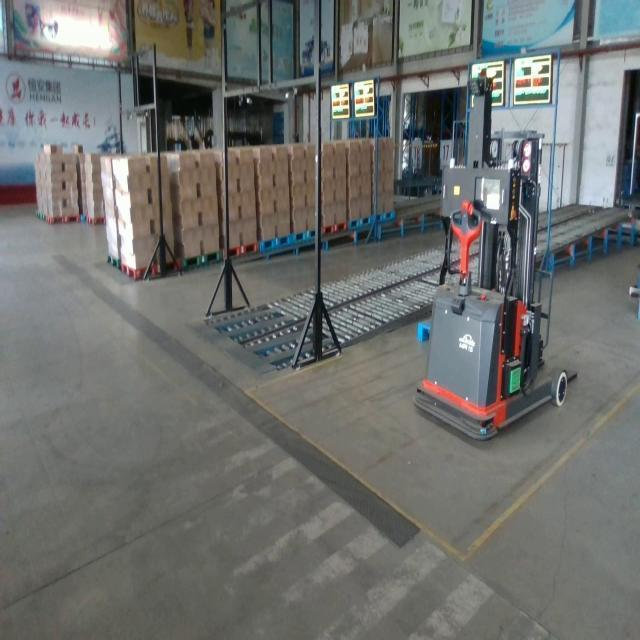forklift: (413, 65, 579, 446)
